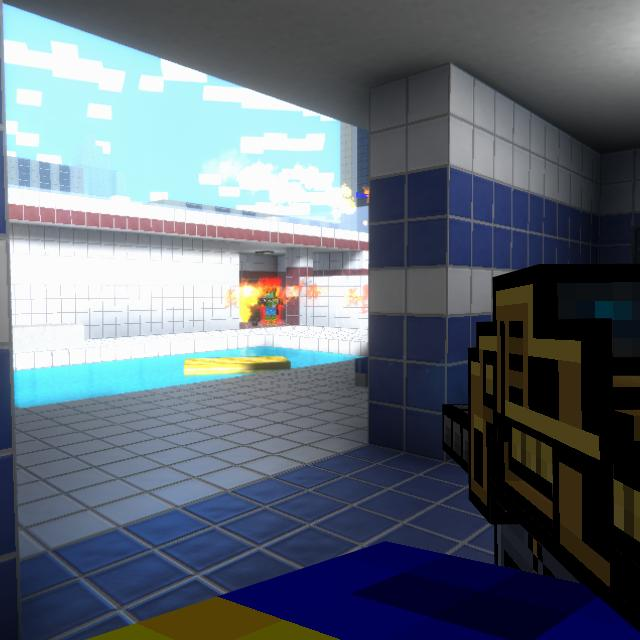Enemy: (260, 288, 283, 325)
